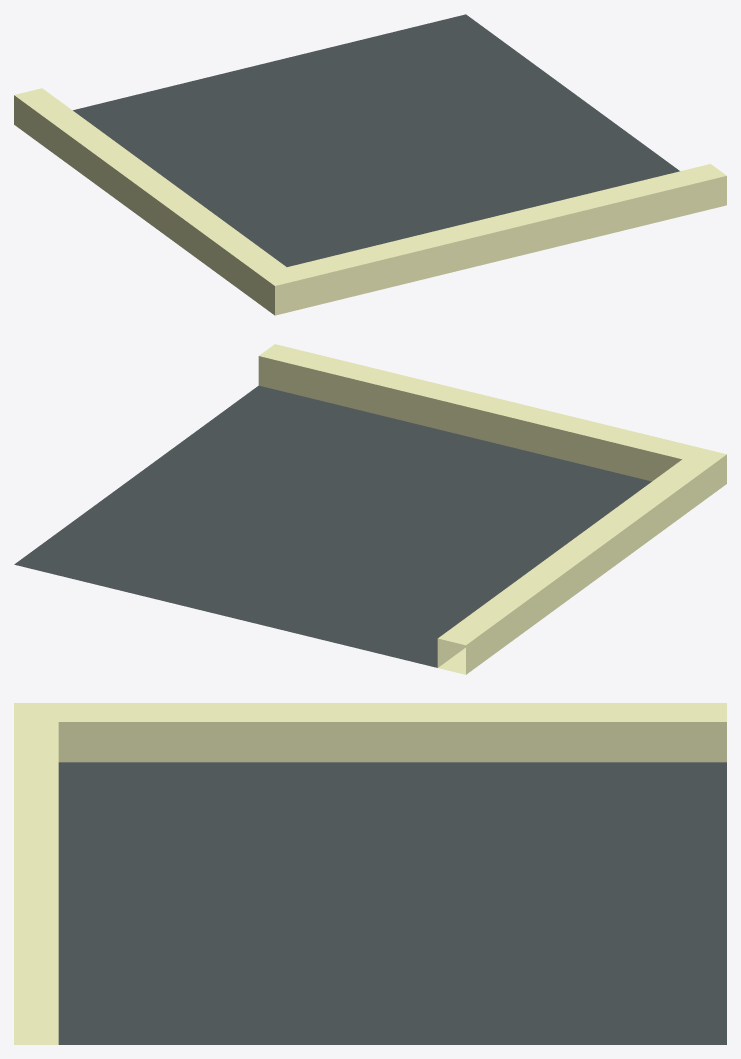
The picture shows the model from 3 angles, top to bottom: view 1: azimuth 30°, elevation 25°; view 2: azimuth 150°, elevation 25°; view 3: azimuth 270°, elevation 25°; orthographic projection. The views are drawn at different scales.
Visible parts, largest first — view 1: road_corner_flat_upright, road_corner_flat_upright1; view 2: road_corner_flat_upright, road_corner_flat_upright1; view 3: road_corner_flat_upright, road_corner_flat_upright1.
Boxes of the visible parts, box(x1,y1,x2,y2) form: road_corner_flat_upright: box(73, 14, 679, 266); road_corner_flat_upright1: box(14, 88, 726, 315); road_corner_flat_upright: box(14, 385, 651, 667); road_corner_flat_upright1: box(258, 344, 726, 674); road_corner_flat_upright: box(58, 762, 726, 1044); road_corner_flat_upright1: box(14, 703, 726, 1044).
Size of the model in its own units: 107 by 6.67 by 107.
